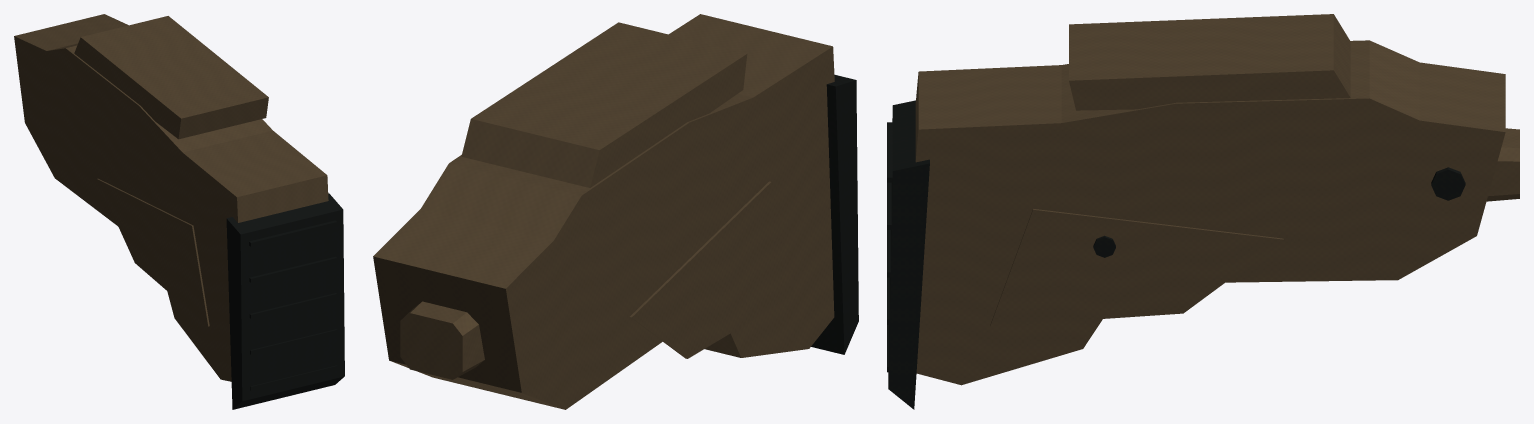
File: scar_stock.glb
3 renders of one model, left to right at view 1: azimuth 30°, elevation 25°; view 2: azimuth 150°, elevation 25°; view 3: azimuth 270°, elevation 25°, orthographic. The views are drawn at different scales.
Visible parts, largest first — view 1: stock__scar_stock_LOD0_RAID_Secondary_Original_tan, stock__scar_stock_LOD1_RAID_Secondary_Original_tan, stock__scar_stock_LOD0_RAID_Secondary_Original_rubber, stock__scar_stock_LOD1_RAID_Secondary_Original_rubber; view 2: stock__scar_stock_LOD0_RAID_Secondary_Original_tan, stock__scar_stock_LOD1_RAID_Secondary_Original_tan, stock__scar_stock_LOD1_RAID_Secondary_Original_rubber, stock__scar_stock_LOD0_RAID_Secondary_Original_rubber; view 3: stock__scar_stock_LOD0_RAID_Secondary_Original_tan, stock__scar_stock_LOD1_RAID_Secondary_Original_tan, stock__scar_stock_LOD1_RAID_Secondary_Original_rubber, stock__scar_stock_LOD0_RAID_Secondary_Original_rubber.
Part boxes in pixels (x1=…): stock__scar_stock_LOD0_RAID_Secondary_Original_tan: x1=15, y1=15, x2=325, y2=378; stock__scar_stock_LOD1_RAID_Secondary_Original_tan: x1=14, y1=14, x2=328, y2=381; stock__scar_stock_LOD0_RAID_Secondary_Original_rubber: x1=227, y1=195, x2=343, y2=408; stock__scar_stock_LOD1_RAID_Secondary_Original_rubber: x1=226, y1=193, x2=344, y2=409; stock__scar_stock_LOD0_RAID_Secondary_Original_tan: x1=378, y1=17, x2=834, y2=408; stock__scar_stock_LOD1_RAID_Secondary_Original_tan: x1=373, y1=14, x2=834, y2=409; stock__scar_stock_LOD1_RAID_Secondary_Original_rubber: x1=811, y1=74, x2=858, y2=354; stock__scar_stock_LOD0_RAID_Secondary_Original_rubber: x1=812, y1=84, x2=857, y2=352; stock__scar_stock_LOD0_RAID_Secondary_Original_tan: x1=917, y1=14, x2=1519, y2=380; stock__scar_stock_LOD1_RAID_Secondary_Original_tan: x1=915, y1=40, x2=1505, y2=385; stock__scar_stock_LOD1_RAID_Secondary_Original_rubber: x1=888, y1=100, x2=929, y2=409; stock__scar_stock_LOD0_RAID_Secondary_Original_rubber: x1=887, y1=122, x2=1465, y2=385.
Bounding box in the file's own units: 0.109 × 0.258 × 0.442.
2 materials, 2 textured.
